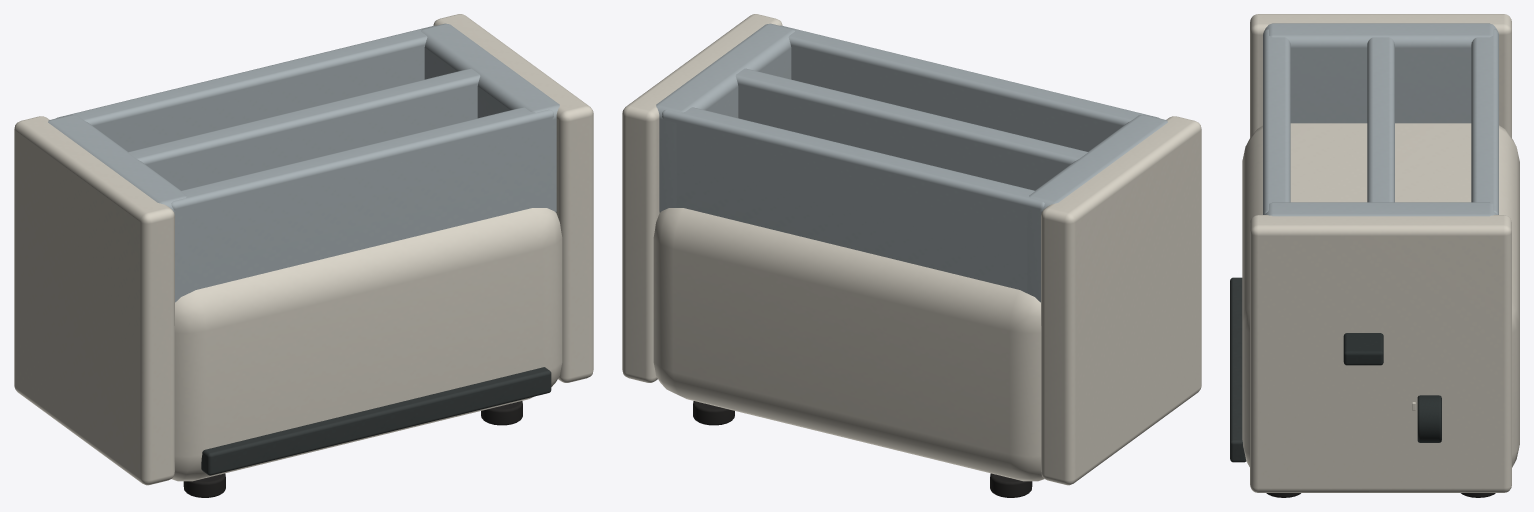
The model's file is toast-two-small-appliance.glb.
3 renders of one model, left to right at view 1: azimuth 30°, elevation 25°; view 2: azimuth 150°, elevation 25°; view 3: azimuth 270°, elevation 25°, orthographic.
Visible parts, largest first — view 1: Toaster lower casing, Cool end cap, Toaster slot divider, Toaster slot divider.002, Toaster slot divider.001, Cool end cap.001, Removable crumb tray, Toaster end wall.001, Toaster end wall, Recessed rubber foot, Recessed rubber foot.002; view 2: Toaster lower casing, Cool end cap, Toaster slot divider.002, Toaster slot divider, Toaster slot divider.001, Cool end cap.001, Toaster end wall.001, Toaster end wall, Recessed rubber foot.001, Recessed rubber foot.003; view 3: Cool end cap.001, Toaster lower casing, Toaster end wall, Cool end cap, Toaster slot divider, Toaster slot divider.002, Toaster slot divider.001, Toaster end wall.001, Removable crumb tray, Bread lift lever, Toast browning control.
Boxes of the visible parts, box(x1,y1,x2,y2) form: Toaster lower casing: box(171, 208, 562, 481); Cool end cap: box(14, 116, 174, 485); Toaster slot divider: box(171, 107, 553, 293); Toaster slot divider.002: box(56, 25, 435, 151); Toaster slot divider.001: box(128, 68, 480, 190); Cool end cap.001: box(433, 14, 593, 382); Removable crumb tray: box(201, 367, 551, 475); Toaster end wall.001: box(421, 23, 559, 212); Toaster end wall: box(48, 114, 188, 302); Recessed rubber foot: box(183, 473, 225, 497); Recessed rubber foot.002: box(481, 401, 522, 425); Toaster lower casing: box(653, 208, 1044, 481); Cool end cap: box(1041, 116, 1201, 485); Toaster slot divider.002: box(662, 107, 1044, 293); Toaster slot divider: box(780, 25, 1159, 151); Toaster slot divider.001: box(735, 68, 1087, 190); Cool end cap.001: box(622, 14, 782, 382); Toaster end wall.001: box(656, 23, 794, 212); Toaster end wall: box(1027, 114, 1167, 302); Recessed rubber foot.001: box(990, 473, 1032, 497); Recessed rubber foot.003: box(693, 401, 734, 425); Cool end cap.001: box(1250, 215, 1511, 492); Toaster lower casing: box(1242, 123, 1519, 467); Toaster end wall: box(1264, 23, 1497, 123); Cool end cap: box(1250, 14, 1511, 137); Toaster slot divider: box(1263, 29, 1290, 214); Toaster slot divider.002: box(1471, 29, 1498, 214); Toaster slot divider.001: box(1367, 37, 1394, 202); Toaster end wall.001: box(1265, 202, 1496, 216); Removable crumb tray: box(1230, 277, 1246, 462); Bread lift lever: box(1343, 333, 1383, 365); Toast browning control: box(1417, 395, 1441, 442).
Size of the model in its own units: 0.3225 by 0.1905 by 0.167.
Materials: 6 (6 with a texture image).
